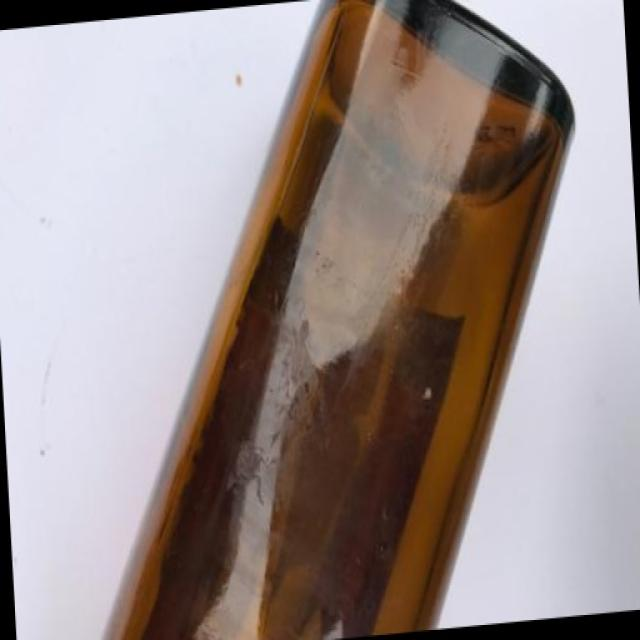vidrio: (86, 1, 576, 640)
